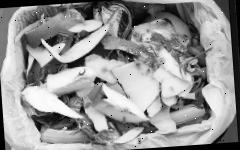organic: (110, 55, 168, 110), (90, 78, 148, 126), (20, 14, 84, 46), (43, 67, 100, 98)
